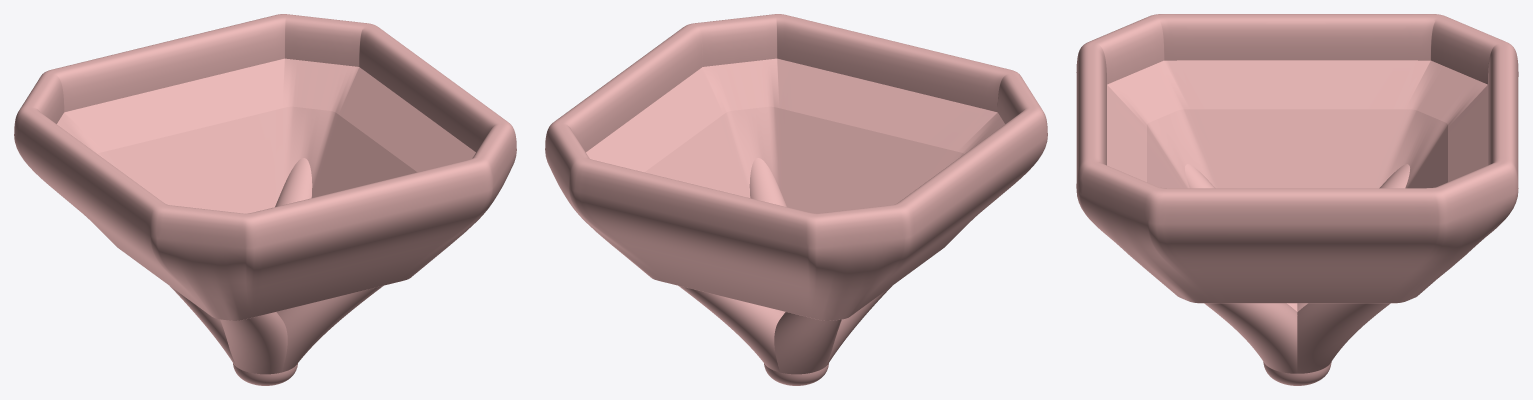
File: RADIANT.glb
3 renders of one model, left to right at view 1: azimuth 30°, elevation 25°; view 2: azimuth 150°, elevation 25°; view 3: azimuth 270°, elevation 25°, orthographic. The views are drawn at different scales.
Visible parts, largest first — view 1: Radiant; view 2: Radiant; view 3: Radiant.
Part boxes in pixels (<box>): Radiant: <box>14,14,516,385</box>; Radiant: <box>545,14,1047,385</box>; Radiant: <box>1076,14,1518,385</box>.
Size of the model in its own units: 5.8 by 4.01 by 5.8.
